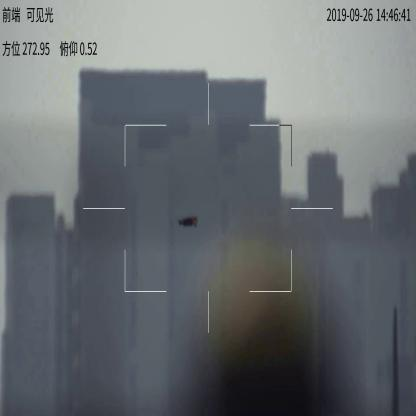uav: (174, 214, 201, 231)
